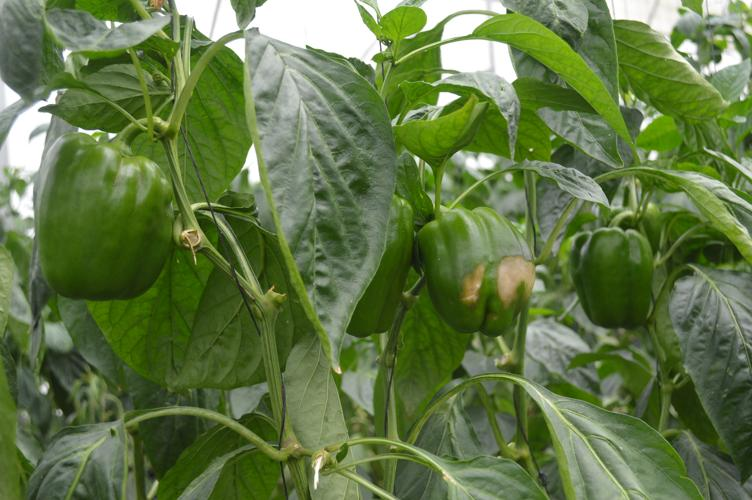BellPepper: (25, 127, 178, 309), (412, 193, 534, 346), (337, 180, 416, 351), (559, 212, 656, 341)
